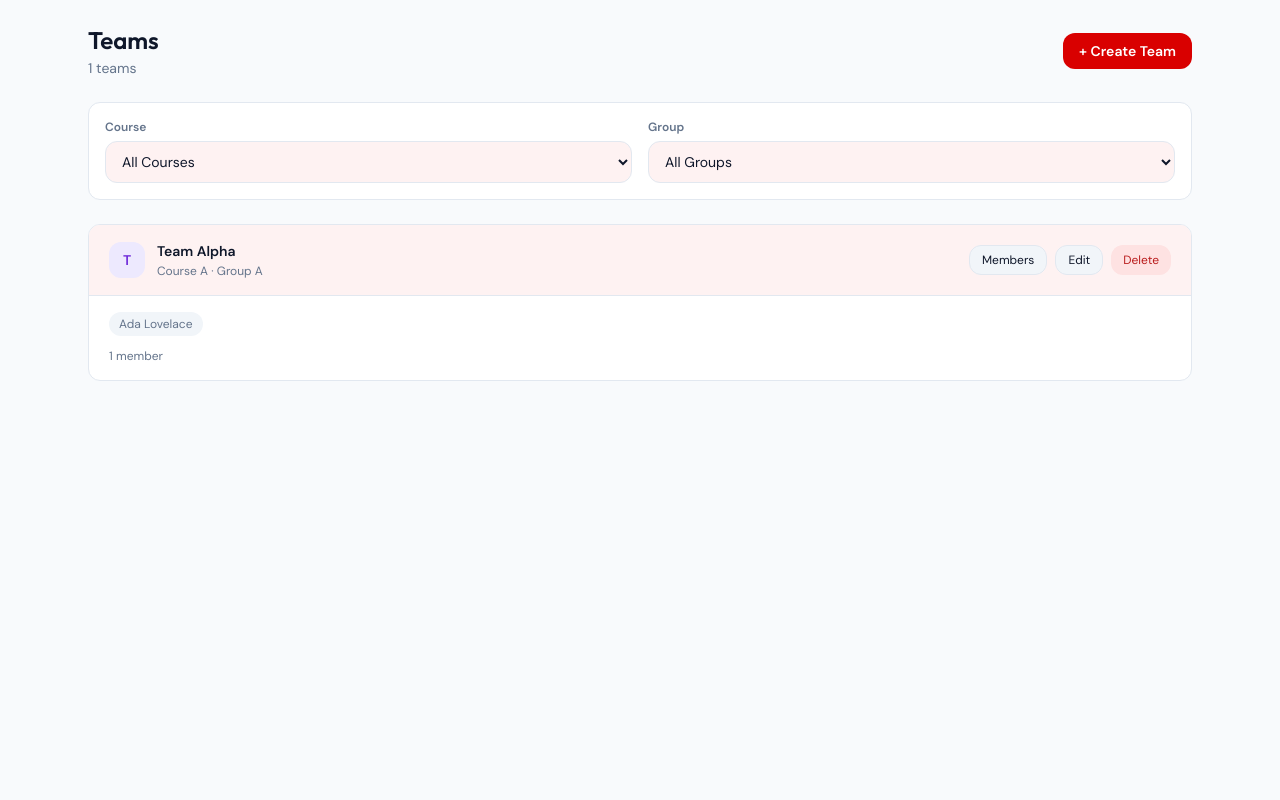
AdminTeams › create team › requires a team name
What coordinates should you click on to do the following:
click the button "+ Create Team"
I would click on:
 (1128, 51)
Its box is [1063,33,1192,69].
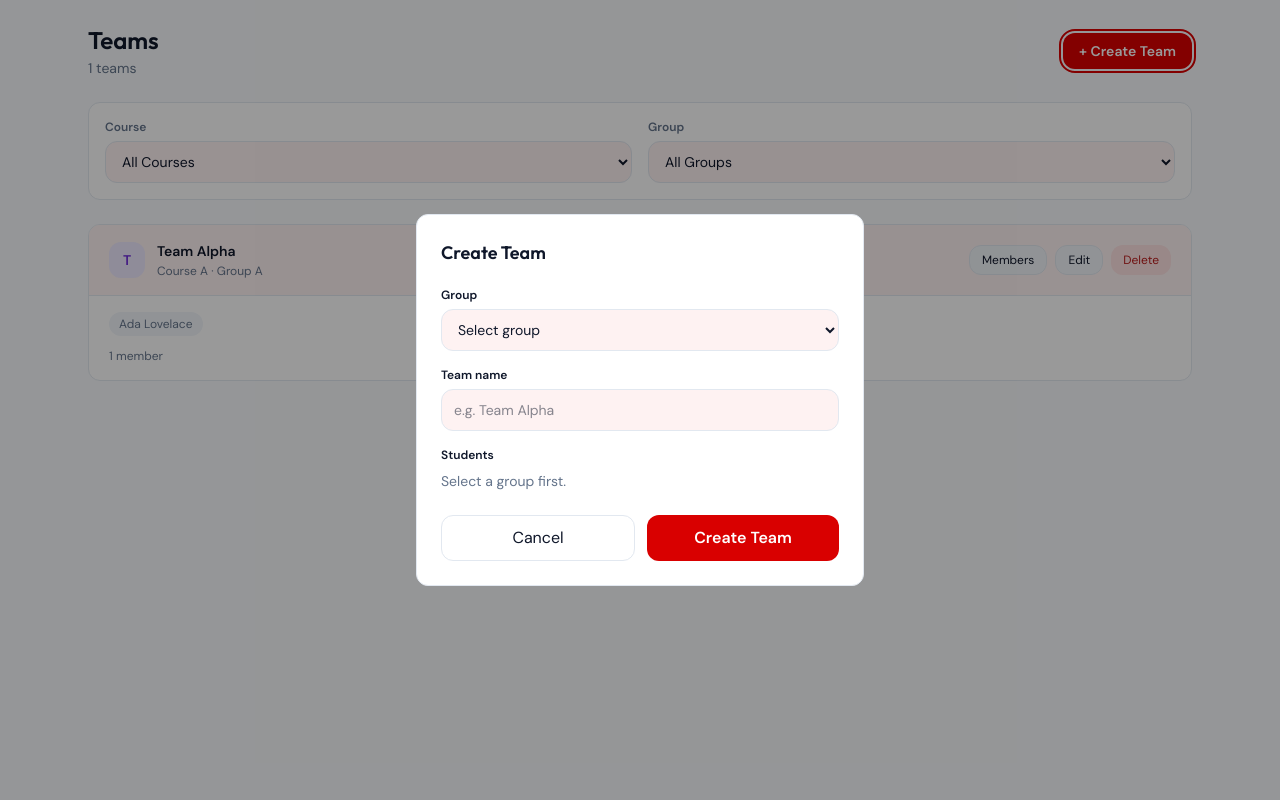
What coordinates should you click on to do the following:
click the button "Create Team"
I would click on:
 (743, 538)
Its box is [647,515,839,561].
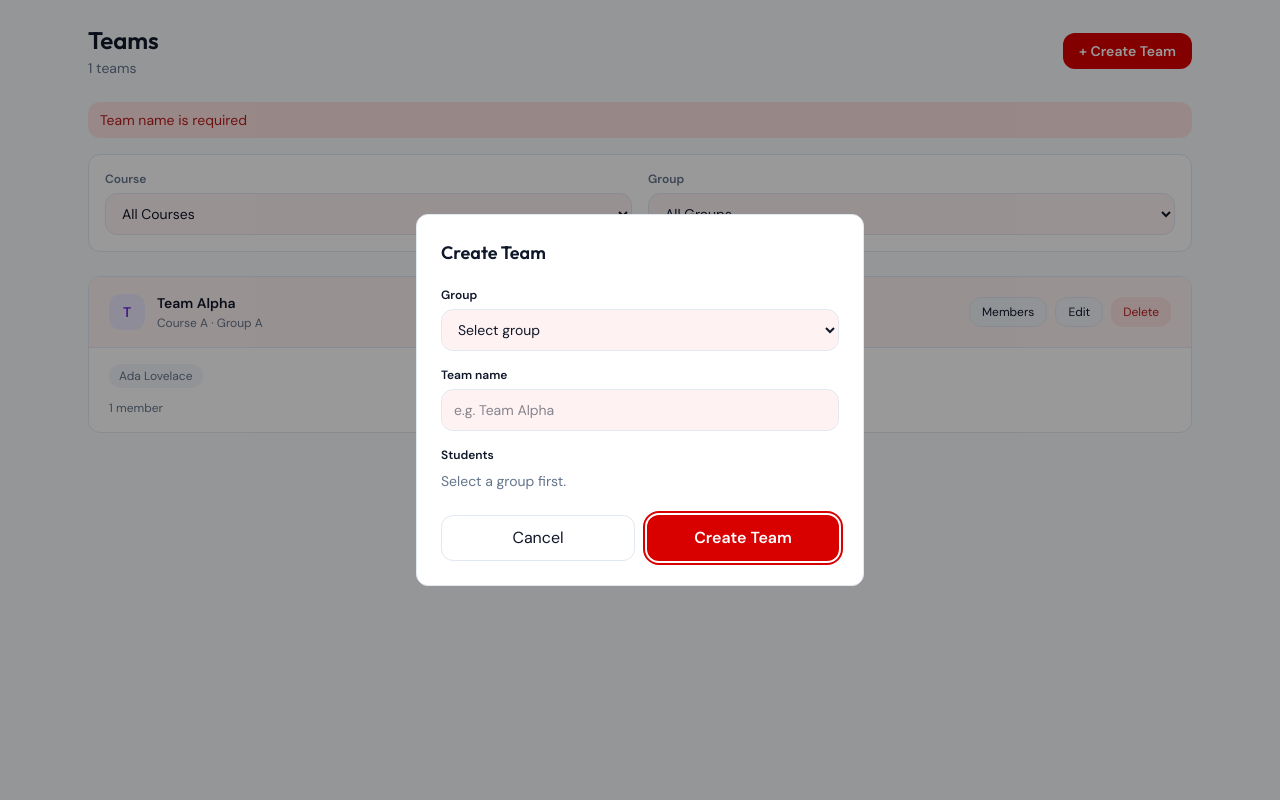
Now the text "Team name is required" is shown, box [88,102,1192,138]
